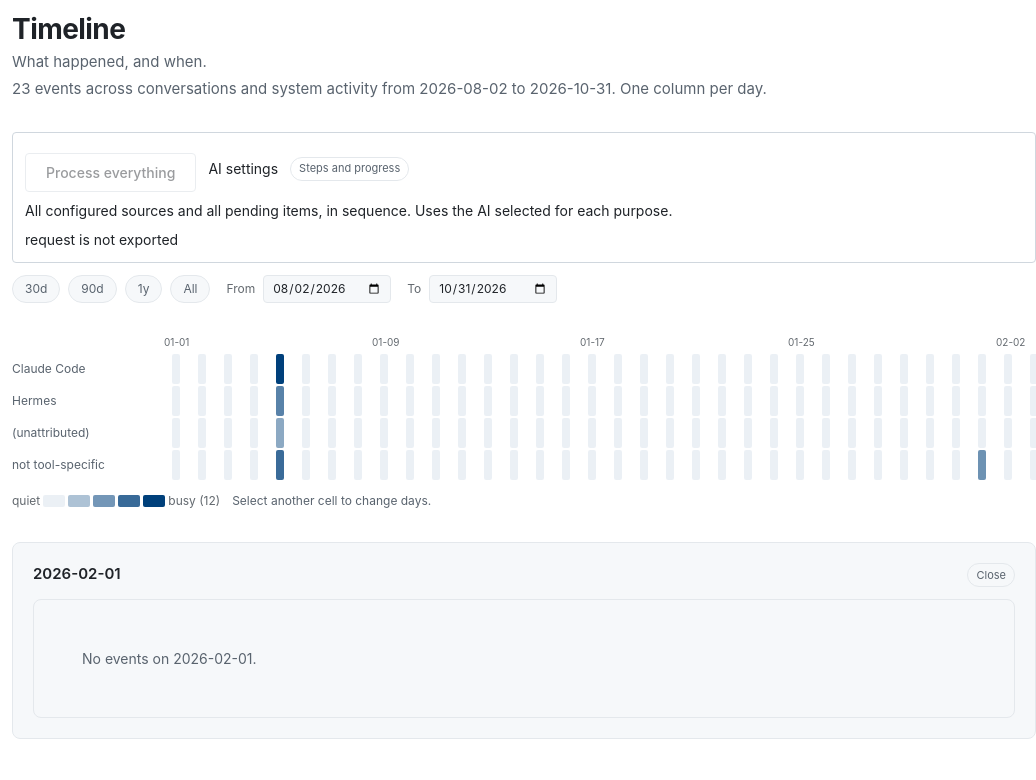
Test: TimelinePage › shows a message rather than a blank panel when a clicked day has no events
The width and height of the screenshot is (1036, 780).
Click the button named "Claude Code, 2026-01-05, 12 events". click: coordinates (280, 369)
box: [268,354,292,384]
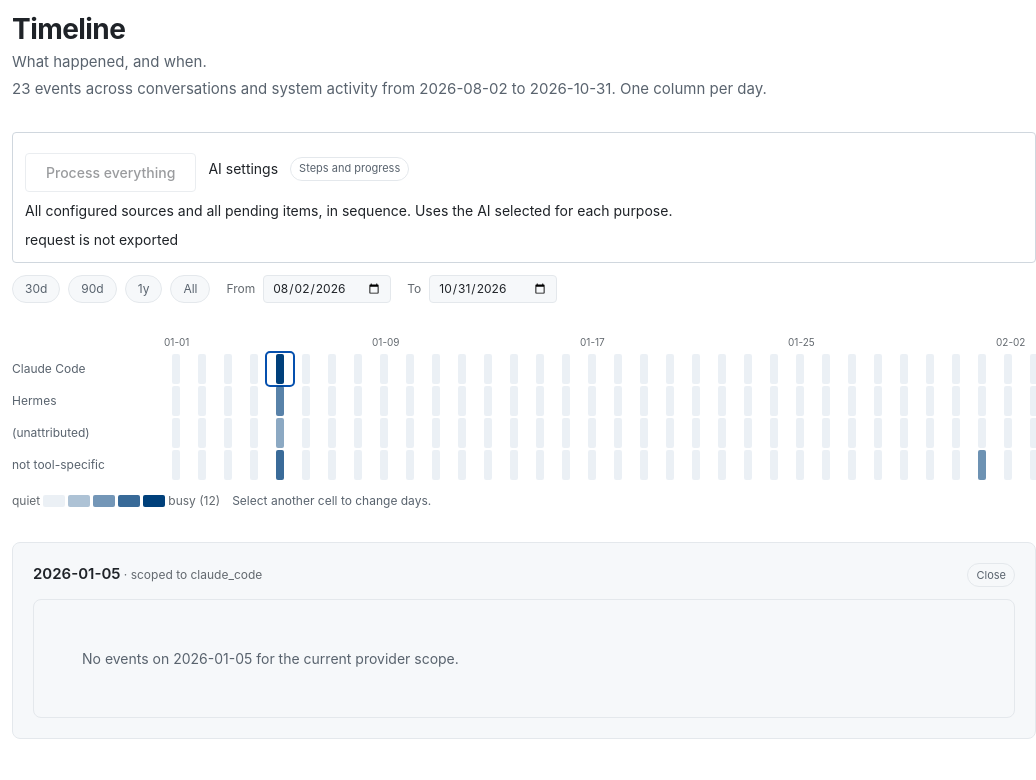
Check: the text "No events on 2026-01-05 for the current provider scope." is shown, box [33,599,1015,718]
